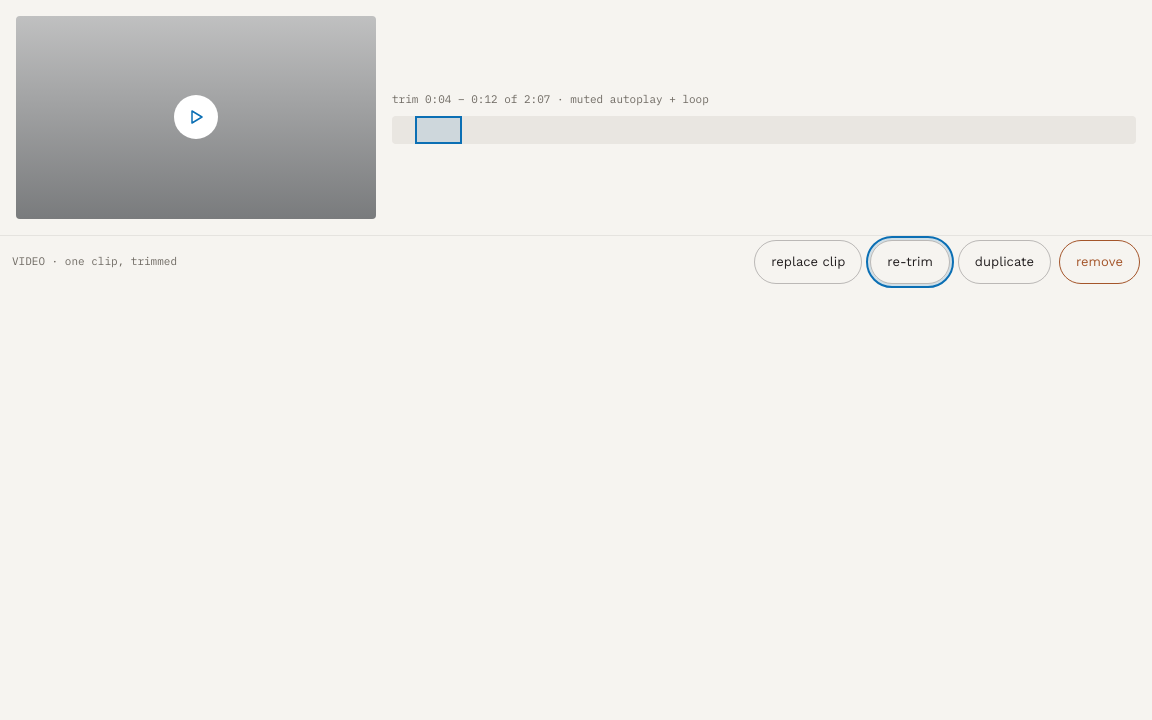
VideoEditor › reads the trim line from the record and opens the trim editor on re-trim
The image size is (1152, 720).
Expected: the text "trim 0:04 – 0:12 of 2:07 · muted autoplay + loop" is shown, [392, 92, 709, 106]
Expected: the text "VIDEO · one clip, trimmed" is shown, [12, 253, 177, 270]
Press Enter
Click the button "replace clip".
click(808, 262)  # box [754, 240, 862, 284]
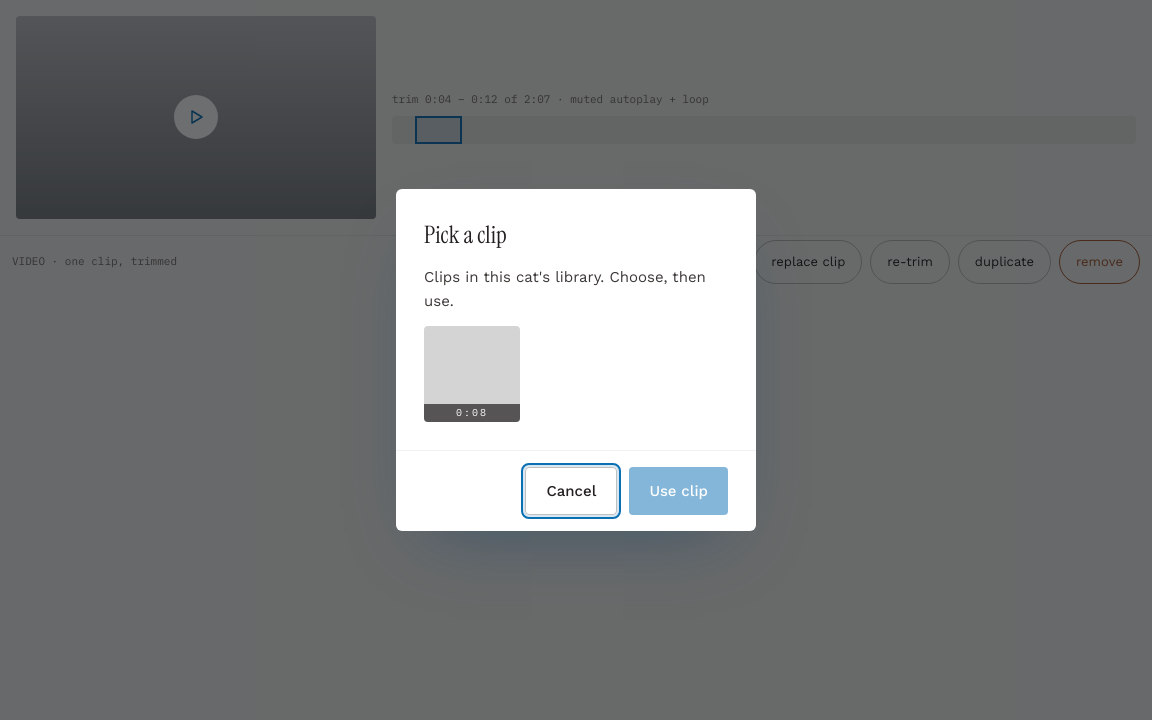
Now the dialog "Pick a clip" is shown, box [396, 189, 756, 531]
